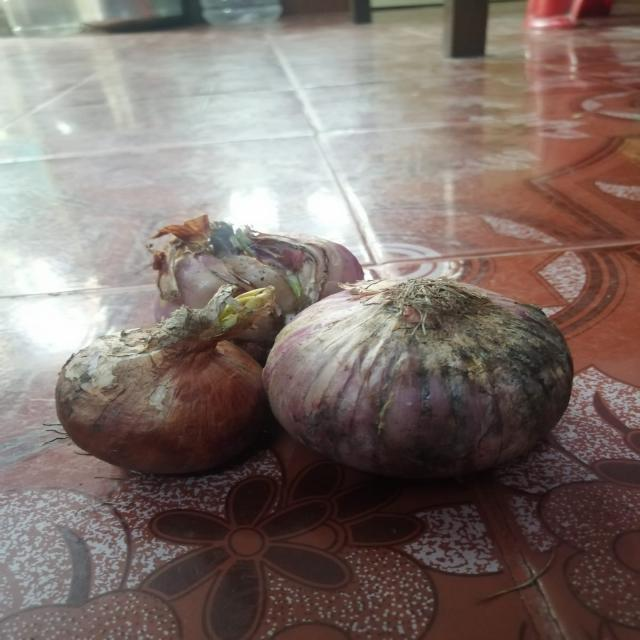rotten: (192, 229, 319, 284), (448, 318, 540, 391)
sprouting: (190, 290, 266, 337)
